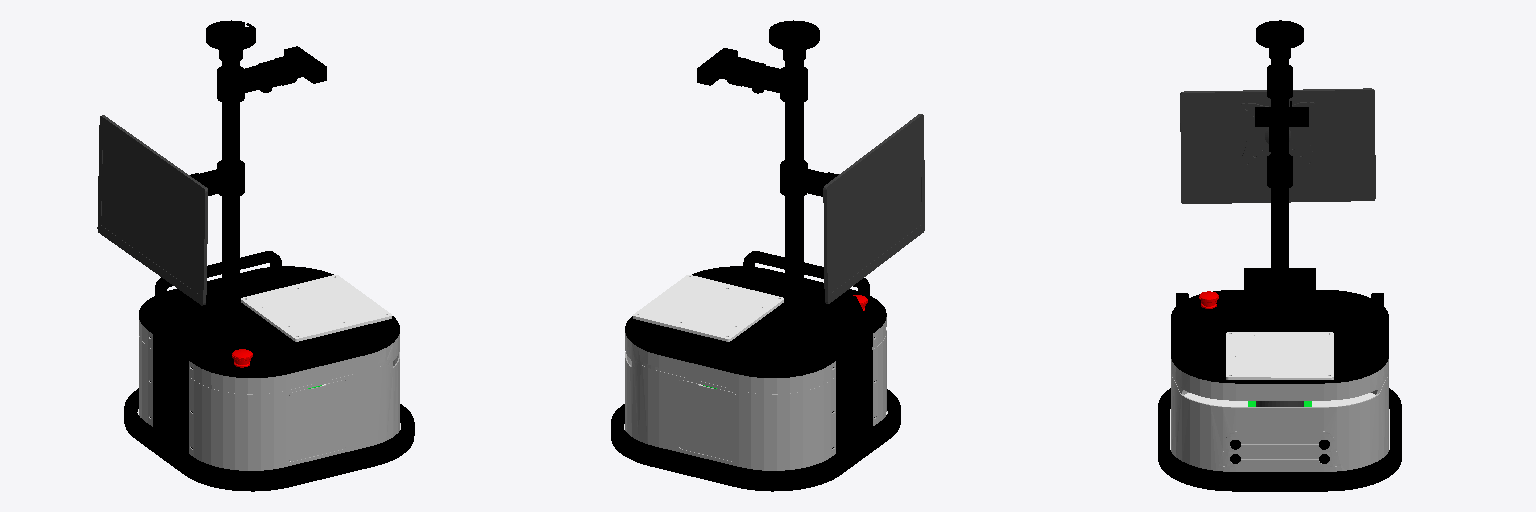
--- Facts derived from the render (not from the file) ---
3 views of the same robot in one strip: view 1: azimuth 30°, elevation 25°; view 2: azimuth 150°, elevation 25°; view 3: azimuth 270°, elevation 25° (orthographic).
Model castlex_description with 31 links and 30 joints (11 continuous, 19 fixed), rooted at base_link, posed every joint at zero.
Visible links, largest first — view 1: side_cover_link, top_link, display_link, column_link, Anti_collision_sensor_link, arm_link, 3d_camera_link, microphone_link; view 2: side_cover_link, top_link, display_link, column_link, Anti_collision_sensor_link, arm_link, 3d_camera_link, microphone_link; view 3: display_link, side_cover_link, top_link, column_link, Anti_collision_sensor_link, arm_link, 3d_camera_link, chassis_link, microphone_link.
Boxes of the visible links, left/top/right/bottom form: side_cover_link: left=139, top=320, right=399, bottom=470; top_link: left=139, top=251, right=399, bottom=452; display_link: left=97, top=115, right=207, bottom=305; column_link: left=190, top=20, right=297, bottom=341; Anti_collision_sensor_link: left=124, top=388, right=414, bottom=491; arm_link: left=241, top=275, right=391, bottom=341; 3d_camera_link: left=284, top=46, right=326, bottom=83; microphone_link: left=208, top=24, right=253, bottom=40; side_cover_link: left=625, top=317, right=886, bottom=470; top_link: left=625, top=251, right=886, bottom=452; display_link: left=823, top=114, right=924, bottom=303; column_link: left=726, top=20, right=838, bottom=341; Anti_collision_sensor_link: left=611, top=389, right=900, bottom=491; arm_link: left=633, top=275, right=783, bottom=341; 3d_camera_link: left=697, top=48, right=738, bottom=85; microphone_link: left=769, top=24, right=815, bottom=40; display_link: left=1180, top=88, right=1375, bottom=203; side_cover_link: left=1171, top=359, right=1388, bottom=471; top_link: left=1171, top=268, right=1388, bottom=383; column_link: left=1255, top=20, right=1304, bottom=327; Anti_collision_sensor_link: left=1158, top=388, right=1401, bottom=491; arm_link: left=1226, top=332, right=1333, bottom=379; 3d_camera_link: left=1255, top=101, right=1308, bottom=126; chassis_link: left=1170, top=393, right=1389, bottom=449; microphone_link: left=1258, top=24, right=1301, bottom=45.
Size in the robot's own frame: 0.4049 by 0.3843 by 0.7071 metres.
26 mesh visuals loaded from 30 distinct referenced files (26 binary STL); not drawn: 4 (reference not matched to a file when rendering).

URDF robot description (castlex_description):
<?xml version="1.0" encoding="utf-8"?>
<!-- This URDF was automatically created by SolidWorks to URDF Exporter! Originally created by Stephen Brawner ([email redacted]) 
     Commit Version: 1.5.0-0-g9aa0fdb  Build Version: 1.5.7004.21443
     For more information, please see http://wiki.ros.org/sw_urdf_exporter -->
<robot  name="castlex_description">

  <!-- base_link -->
  <link name="base_link">
    <inertial>
      <origin xyz="6.9267945770439E-06 -3.96574693306562E-06 0.00395606136220966"  rpy="0 0 3.14159265358979" />
      <mass value="0.720167465924811" />
      <inertia  ixx="0.00615545372950328" ixy="-4.87237789358096E-07" ixz="-2.97755475510978E-08"
                iyy="0.00612747058646997" iyz="4.18370923899482E-09"
                izz="0.0122752906926513" />
    </inertial>
  </link>

  <!-- chassis_link -->
  <link name="chassis_link">
    <inertial>
      <origin xyz="6.9267945770439E-06 -3.96574693306562E-06 0.00395606136220966" rpy="0 0 0" />
      <mass value="0.72016746592481" />
      <inertia  ixx="0.00615545372950328" ixy="-4.87237789358309E-07" ixz="2.97755475511005E-08"
                iyy="0.00612747058646997" iyz="-4.18370923861834E-09"
                izz="0.0122752906926513" />
    </inertial>
    <visual>
      <origin xyz="0 0 0" rpy="0 0 0" />
      <geometry>
        <mesh filename="package://castlex_description/meshes/chassis_link.STL" />
      </geometry>
      <material name="">
        <color  rgba="1 1 1 1" />
      </material>
    </visual>
    <collision>
      <origin xyz="0 0 0" rpy="0 0 0" />
      <geometry>
        <mesh filename="package://castlex_description/meshes/chassis_link.STL" />
      </geometry>
    </collision>
  </link>

  <!-- base_link_joint -->
  <joint  name="base_link_joint"  type="fixed">
    <origin xyz="0.0 0.0 0.0" rpy="0 0 0" />
    <parent link="base_link" />
    <child  link="chassis_link" />
    <axis xyz="0 0 0" />
    <safety_controller  k_velocity="0" />
  </joint>

  <!-- axle_link -->
  <link name="axle_link">
    <inertial>
      <origin xyz="-6.92679457704216E-06 0.00395606136220966 -3.96574693306562E-06" rpy="0 0 0" />
      <mass value="0.720167465924811" />
      <inertia  ixx="0.00615545372950328" ixy="-2.97755475510977E-08" ixz="4.87237789358242E-07"
                iyy="0.0122752906926513"  iyz="-4.18370923861933E-09"
                izz="0.00612747058646997" />
    </inertial>
    <visual>
      <origin xyz="0 0 0" rpy="0 0 0" />
      <geometry>
        <mesh filename="package://castlex_description/meshes/axle_link.STL" />
      </geometry>
      <material name="">
        <color  rgba="1 1 1 1" />
      </material>
    </visual>
    <collision>
      <origin xyz="0 0 0" rpy="0 0 0" />
      <geometry>
        <mesh filename="package://castlex_description/meshes/axle_link.STL" />
      </geometry>
    </collision>
  </link>

  <!-- axle_joint -->
  <joint  name="axle_joint" type="fixed">
    <origin xyz="0 0 0" rpy="1.5707963267949 0 3.14159265358979" />
    <parent link="chassis_link" />
    <child  link="axle_link" />
    <axis xyz="0 0 0" />
    <safety_controller  k_velocity="0" />
  </joint>

  <!-- car_a_whell_shaft_link -->
  <link name="car_a_whell_shaft_link">
    <inertial>
      <origin xyz="1.3855E-10 -0.022254 8.3157E-10" rpy="0 0 0" />
      <mass value="0.043953" />
      <inertia  ixx="7.9726E-06"  ixy="2.8686E-14"  ixz="-1.401E-15"
                iyy="1.3822E-05"  iyz="2.0711E-13"
                izz="7.9726E-06" />
    </inertial>
    <visual>
      <origin xyz="0 0 0" rpy="0 0 0" />
      <geometry>
        <mesh filename="package://castlex_description/meshes/car_a_whell_shaft_link.STL" />
      </geometry>
      <material name="">
        <color  rgba="1 1 1 1" />
      </material>
    </visual>
    <collision>
      <origin xyz="0 0 0" rpy="0 0 0" />
      <geometry>
        <mesh filename="package://castlex_description/meshes/car_a_whell_shaft_link.STL" />
      </geometry>
    </collision>
  </link>

  <!-- car_a_whell_shaft_joint -->
  <joint  name="car_a_whell_shaft_joint"  type="continuous">
    <origin xyz="-0.079983 0.023 0.13854" rpy="1.0472 0 1.5708" />
    <parent link="axle_link" />
    <child  link="car_a_whell_shaft_link" />
    <axis xyz="0 1 0" />
    <safety_controller  k_velocity="0" />
  </joint>

  <!-- car_a_whell_disc_link -->
  <link name="car_a_whell_disc_link">
    <inertial>
      <origin xyz="-7.6413E-13 0 0.01395" rpy="0 0 0" />
      <mass value="0.049359" />
      <inertia  ixx="2.6026E-05"  ixy="3.4384E-19"  ixz="1.0392E-19"
                iyy="2.6026E-05"  iyz="1.3941E-17"
                izz="5.1939E-05" />
    </inertial>
    <visual>
      <origin xyz="0 0 0" rpy="0 0 0" />
      <geometry>
        <mesh filename="package://castlex_description/meshes/car_a_whell_disc_link.STL" />
      </geometry>
      <material name="">
        <color  rgba="0.5 0.54 0.53 1" />
      </material>
    </visual>
    <collision>
      <origin xyz="0 0 0" rpy="0 0 0" />
      <geometry>
        <mesh filename="package://castlex_description/meshes/car_a_whell_disc_link.STL" />
      </geometry>
    </collision>
  </link>

  <!-- car_a_whell_disc_joint -->
  <joint  name="car_a_whell_disc_joint" type="fixed">
    <origin xyz="0 0.00123301270189213 0" rpy="1.5707963267949 -0.0218660615255049 0" />
    <parent link="car_a_whell_shaft_link" />
    <child  link="car_a_whell_disc_link" />
    <axis xyz="0 0 0" />
    <safety_controller  k_velocity="0" />
  </joint>

  <!-- car_a_whell_link -->
  <link name="car_a_whell_link">
    <inertial>
      <origin xyz="-0.026052 0.037502 -2.0596E-07"  rpy="0 0 0" />
      <mass value="0.072738" />
      <inertia  ixx="3.5683E-06"  ixy="1.7836E-07"  ixz="3.1353E-12"
                iyy="3.1941E-06"  iyz="1.1029E-12"
                izz="3.1227E-06" />
    </inertial>
    <visual>
      <origin xyz="0 0 0" rpy="0 0 0" />
      <geometry>
        <mesh filename="package://castlex_description/meshes/car_a_whell_link.STL" />
      </geometry>
      <material name="">
        <color  rgba="0 0 0 1" />
      </material>
    </visual>
    <collision>
      <origin xyz="0 0 0" rpy="0 0 0" />
      <geometry>
        <mesh filename="package://castlex_description/meshes/car_a_whell_link.STL" />
      </geometry>
    </collision>
  </link>

  <!-- car_a_whell_joint -->
  <joint  name="car_a_whell_joint"  type="fixed">
    <origin xyz="0.0385363128413261 0.0222489506297024 0.00369999999999965" rpy="-1.57079632679489 1.19004334631925 0.523598775952223" />
    <parent link="car_a_whell_disc_link" />
    <child  link="car_a_whell_link" />
    <axis xyz="0 0 0" />
    <safety_controller  k_velocity="0" />
  </joint>

  <!-- car_b_whell_shaft_link -->
  <link name="car_b_whell_shaft_link">
    <inertial>
      <origin xyz="-0.00043301 -0.036456 -0.00075"  rpy="0 0 0" />
      <mass value="0.11582" />
      <inertia  ixx="4.9326E-05"  ixy="2.0221E-13"  ixz="3.5105E-15"
                iyy="1.5146E-05"  iyz="-4.7893E-14"
                izz="4.9326E-05" />
    </inertial>
    <visual>
      <origin xyz="0 0 0" rpy="0 0 0" />
      <geometry>
        <mesh filename="package://castlex_description/meshes/car_b_whell_shaft_link.STL" />
      </geometry>
      <material name="">
        <color  rgba="1 1 1 1" />
      </material>
    </visual>
    <collision>
      <origin xyz="0 0 0" rpy="0 0 0" />
      <geometry>
        <mesh filename="package://castlex_description/meshes/car_b_whell_shaft_link.STL" />
      </geometry>
    </collision>
  </link>

  <!-- car_b_whell_shaft_joint -->
  <joint  name="car_b_whell_shaft_joint"  type="continuous">
    <origin xyz="-0.080175 0.02375 -0.13973"  rpy="-1.5708 0.5236 0" />
    <parent link="axle_link" />
    <child  link="car_b_whell_shaft_link" />
    <axis xyz="0 1 0" />
    <safety_controller  k_velocity="0" />
  </joint>

  <!-- car_b_whell_disc_link -->
  <link name="car_b_whell_disc_link">
    <inertial>
      <origin xyz="-3.8122E-13 6.6022E-13 -0.00655" rpy="0 0 0" />
      <mass value="0.049359" />
      <inertia  ixx="2.6026E-05"  ixy="5.5596E-16"  ixz="1.2099E-17"
                iyy="2.6026E-05"  iyz="6.9914E-18"
                izz="5.1939E-05" />
    </inertial>
    <visual>
      <origin xyz="0 0 0" rpy="0 0 0" />
      <geometry>
        <mesh filename="package://castlex_description/meshes/car_b_whell_disc_link.STL" />
      </geometry>
      <material name="">
        <color  rgba="0.5 0.54 0.529 1" />
      </material>
    </visual>
    <collision>
      <origin xyz="0 0 0" rpy="0 0 0" />
      <geometry>
        <mesh filename="package://castlex_description/meshes/car_b_whell_disc_link.STL" />
      </geometry>
    </collision>
  </link>

  <!-- car_b_whell_disc_joint -->
  <joint  name="car_b_whell_disc_joint" type="fixed">
    <origin xyz="-0.000433012701892471 -0.0203999999999999 -0.000749999999999876" rpy="-1.5707963267949 -0.50173271407281 -3.14159265358979" />
    <parent link="car_b_whell_shaft_link" />
    <child  link="car_b_whell_disc_link" />
    <axis xyz="0 0 0" />
    <safety_controller  k_velocity="0" />
  </joint>

  <!-- car_b_whell_link -->
  <link name="car_b_whell_link">
    <inertial>
      <origin xyz="-0.026052 0.037502 1.445E-07"  rpy="0 0 0" />
      <mass value="0.072738" />
      <inertia  ixx="3.5683E-06"  ixy="1.7838E-07"  ixz="-2.0619E-11"
                iyy="3.1941E-06"  iyz="-1.7069E-11"
                izz="3.1227E-06" />
    </inertial>
    <visual>
      <origin xyz="0 0 0" rpy="0 0 0" />
      <geometry>
        <mesh filename="package://castlex_description/meshes/car_b_whell_link.STL" />
      </geometry>
      <material name="">
        <color  rgba="0 0 0 1" />
      </material>
    </visual>
    <collision>
      <origin xyz="0 0 0" rpy="0 0 0" />
      <geometry>
        <mesh filename="package://castlex_description/meshes/car_b_whell_link.STL" />
      </geometry>
    </collision>
  </link>

  <!-- car_b_whell_joint -->
  <joint  name="car_b_whell_joint"  type="fixed">
    <origin xyz="-0.0152191785170915 -0.0418143494125209 -0.0168000000000001" rpy="-1.5707963267949 1.19004334631925 -1.91986217683983" />
    <parent link="car_b_whell_disc_link" />
    <child  link="car_b_whell_link" />
    <axis xyz="0 0 0" />
    <safety_controller  k_velocity="0" />
  </joint>

  <!-- car_c_whell_shaft_link -->
  <link name="car_c_whell_shaft_link">
    <inertial>
      <origin xyz="3.6808E-11 -0.022253 -1.1285E-11"  rpy="0 0 0" />
      <mass value="0.043954" />
      <inertia  ixx="7.9726E-06"  ixy="1.0692E-14"  ixz="-1.6854E-17"
                iyy="1.3822E-05"  iyz="-2.379E-15"
                izz="7.9726E-06" />
    </inertial>
    <visual>
      <origin xyz="0 0 0" rpy="0 0 0" />
      <geometry>
        <mesh filename="package://castlex_description/meshes/car_c_whell_shaft_link.STL" />
      </geometry>
      <material name="">
        <color  rgba="1 1 1 1" />
      </material>
    </visual>
    <collision>
      <origin xyz="0 0 0" rpy="0 0 0" />
      <geometry>
        <mesh filename="package://castlex_description/meshes/car_c_whell_shaft_link.STL" />
      </geometry>
    </collision>
  </link>

  <!-- car_c_whell_shaft_joint -->
  <joint  name="car_c_whell_shaft_joint"  type="continuous">
    <origin xyz="0.15997 0.023 0" rpy="0 0 -1.5708" />
    <parent link="axle_link" />
    <child  link="car_c_whell_shaft_link" />
    <axis xyz="0 1 0" />
    <safety_controller  k_velocity="0" />
  </joint>

  <!-- car_c_whell_disc_link -->
  <link name="car_c_whell_disc_link">
    <inertial>
      <origin xyz="-7.6316E-13 5.5511E-17 0.01395"  rpy="0 0 0" />
      <mass value="0.049359" />
      <inertia  ixx="2.6026E-05"  ixy="3.3992E-19"  ixz="4.4017E-21"
                iyy="2.6026E-05"  iyz="1.1988E-17"
                izz="5.1939E-05" />
    </inertial>
    <visual>
      <origin xyz="0 0 0" rpy="0 0 0" />
      <geometry>
        <mesh filename="package://castlex_description/meshes/car_c_whell_disc_link.STL" />
      </geometry>
      <material name="">
        <color  rgba="0.5 0.54 0.529 1" />
      </material>
    </visual>
    <collision>
      <origin xyz="0 0 0" rpy="0 0 0" />
      <geometry>
        <mesh filename="package://castlex_description/meshes/car_c_whell_disc_link.STL" />
      </geometry>
    </collision>
  </link>

  <!-- car_c_whell_disc_joint -->
  <joint  name="car_c_whell_disc_joint" type="fixed">
    <origin xyz="0 0.00123301270189233 0" rpy="-1.5707963267949 0.0218660615255049 -3.14159265358979" />
    <parent link="car_c_whell_shaft_link" />
    <child  link="car_c_whell_disc_link" />
    <axis xyz="0 0 0" />
    <safety_controller  k_velocity="0" />
  </joint>

  <!-- car_c_whell_link -->
  <link name="car_c_whell_link">
    <inertial>
      <origin xyz="-0.026052 0.037502 -2.8755E-11"  rpy="0 0 0" />
      <mass value="0.072739" />
      <inertia  ixx="3.5684E-06"  ixy="1.7839E-07"  ixz="-2.5183E-14"
                iyy="3.1942E-06"  iyz="-1.0492E-14"
                izz="3.1228E-06" />
    </inertial>
    <visual>
      <origin xyz="0 0 0" rpy="0 0 0" />
      <geometry>
        <mesh filename="package://castlex_description/meshes/car_c_whell_link.STL" />
      </geometry>
      <material name="">
        <color  rgba="0 0 0 1" />
      </material>
    </visual>
    <collision>
      <origin xyz="0 0 0" rpy="0 0 0" />
      <geometry>
        <mesh filename="package://castlex_description/meshes/car_c_whell_link.STL" />
      </geometry>
    </collision>
  </link>

  <!-- car_c_whell_joint -->
  <joint  name="car_c_whell_joint"  type="fixed">
    <origin xyz="0 -0.044497901203624 0.00369999999999981"  rpy="-1.5707963267949 1.19004334631925 -1.57079632644098" />
    <parent link="car_c_whell_disc_link" />
    <child  link="car_c_whell_link" />
    <axis xyz="0 0 0" />
    <safety_controller  k_velocity="0" />
  </joint>

  <!-- imu_link -->
  <link name="imu_link">
    <inertial>
      <origin xyz="-0.049446 -0.019177 0.0062665" rpy="0 0 0" />
      <mass value="0.18529" />
      <inertia  ixx="0.00015805"  ixy="-3.4913E-06" ixz="2.0531E-06"
                iyy="0.0003484"
                iyz="1.0145E-06"
                izz="0.00050079" />
    </inertial>
    <visual>
      <origin xyz="0 0 0" rpy="0 0 0" />
      <geometry>
        <mesh filename="package://castlex_description/meshes/imu_link.STL" />
      </geometry>
      <material name="">
        <color  rgba="0.027451 1 0.21961 1" />
      </material>
    </visual>
    <collision>
      <origin xyz="0 0 0" rpy="0 0 0" />
      <geometry>
        <mesh filename="package://castlex_description/meshes/imu_link.STL" />
      </geometry>
    </collision>
  </link>

  <!-- imu_joint -->
  <joint  name="imu_joint"  type="fixed">
    <origin xyz="-0.0593784805986412 0.0187236169610466 0.07" rpy="3.14159265358979 0 3.14159265358979" />
    <parent link="chassis_link" />
    <child  link="imu_link" />
    <axis xyz="0 0 0" />
    <safety_controller  k_velocity="0" />
  </joint>

  <!-- side_cover_link -->
  <link name="side_cover_link">
    <inertial>
      <origin xyz="-0.085611 -0.17171 0.080349" rpy="0 0 0" />
      <mass value="0.34391" />
      <inertia  ixx="0.0058573" ixy="5.3047E-07"  ixz="0.00014398"
                iyy="0.0052489" iyz="1.6578E-05"
                izz="0.009758" />
    </inertial>
    <visual>
      <origin xyz="0 0 0" rpy="0 0 0" />
      <geometry>
        <mesh filename="package://castlex_description/meshes/side_cover_link.STL" />
      </geometry>
      <material name="">
        <color  rgba="0.75294 0.75294 0.75294 1" />
      </material>
    </visual>
    <collision>
      <origin xyz="0 0 0" rpy="0 0 0" />
      <geometry>
        <mesh filename="package://castlex_description/meshes/side_cover_link.STL" />
      </geometry>
    </collision>
  </link>

  <!-- side_cover_joint -->
  <joint  name="side_cover_joint" type="fixed">
    <origin xyz="-0.0699999999999999 -0.172 0.005"  rpy="0.00367645402410964 0 3.14159265358974" />
    <parent link="chassis_link" />
    <child  link="side_cover_link" />
    <axis xyz="0 0 0" />
    <safety_controller  k_velocity="0" />
  </joint>

  <!-- cover_link -->
  <link name="cover_link">
    <inertial>
      <origin xyz="-6.9268E-06 0.0039561 -3.9657E-06" rpy="0 0 0" />
      <mass value="0.72017" />
      <inertia  ixx="0.0061555" ixy="-2.9776E-08" ixz="4.8724E-07"
                iyy="0.012275"  iyz="-4.1837E-09"
                izz="0.0061275" />
    </inertial>
    <visual>
      <origin xyz="0 0 0" rpy="0 0 0" />
      <geometry>
        <mesh filename="package://castlex_description/meshes/cover_link.STL" />
      </geometry>
      <material name="">
        <color  rgba="1 1 1 1" />
      </material>
    </visual>
    <collision>
      <origin xyz="0 0 0" rpy="0 0 0" />
      <geometry>
        <mesh filename="package://castlex_description/meshes/cover_link.STL" />
      </geometry>
    </collision>
  </link>

  <!-- cover_link_joint -->
  <joint  name="cover_link_joint" type="fixed">
    <origin xyz="0 0 0" rpy="1.5707963267949 0 3.14159265358979" />
    <parent link="chassis_link" />
    <child  link="cover_link" />
    <axis xyz="0 0 0" />
    <safety_controller  k_velocity="0" />
  </joint>

  <!-- top_link -->
  <link name="top_link">
    <inertial>
      <origin xyz="0.016184 0.0040409 0.00038438" rpy="0 0 0" />
      <mass value="1.0783" />
      <inertia  ixx="0.0080149" ixy="0.00010216"  ixz="-4.1524E-05"
                iyy="0.014398"  iyz="6.0692E-07"
                izz="0.0072524" />
    </inertial>
    <visual>
      <origin xyz="0 0 0" rpy="0 0 0" />
      <geometry>
        <mesh filename="package://castlex_description/meshes/top_link.STL" />
      </geometry>
      <material name="">
        <color  rgba="0 0 0 1" />
      </material>
    </visual>
    <collision>
      <origin xyz="0 0 0" rpy="0 0 0" />
      <geometry>
        <mesh filename="package://castlex_description/meshes/top_link.STL" />
      </geometry>
    </collision>
  </link>

  <!-- top_joint -->
  <joint  name="top_joint"  type="fixed">
    <origin xyz="0 0 0.163" rpy="1.5707963267949 0 3.14159265358979" />
    <parent link="chassis_link" />
    <child  link="top_link" />
    <axis xyz="0 0 0" />
    <safety_controller  k_velocity="0" />
  </joint>

  <!-- stop_link -->
  <link name="stop_link">
    <inertial>
      <origin xyz="5.2424E-09 0.011181 -9.8443E-08" rpy="0 0 0" />
      <mass value="0.01716" />
      <inertia  ixx="2.821E-06" ixy="-1.3501E-11" ixz="8.4481E-12"
                iyy="1.3428E-06"  iyz="9.3751E-12"
                izz="2.8214E-06" />
    </inertial>
    <visual>
      <origin xyz="0 0 0" rpy="0 0 0" />
      <geometry>
        <mesh filename="package://castlex_description/meshes/stop_link.STL" />
      </geometry>
      <material name="">
        <color  rgba="1 0 0 1" />
      </material>
    </visual>
    <collision>
      <origin xyz="0 0 0" rpy="0 0 0" />
      <geometry>
        <mesh filename="package://castlex_description/meshes/stop_link.STL" />
      </geometry>
    </collision>
  </link>

  <!-- stop_joint -->
  <joint  name="stop_joint" type="continuous">
    <origin xyz="0.112 0 -0.112"  rpy="0 0 0" />
    <parent link="top_link" />
    <child  link="stop_link" />
    <axis xyz="0 1 0" />
    <safety_controller  k_velocity="0" />
  </joint>

  <!-- arm_link -->
  <link name="arm_link">
    <inertial>
      <origin xyz="9.869E-05 0.0025014 5.5511E-17"  rpy="0 0 0" />
      <mass value="0.14362" />
      <inertia  ixx="0.00034412"  ixy="6.1399E-09"  ixz="-4.3666E-20"
                iyy="0.00068799"  iyz="-2.0973E-23"
                izz="0.00034447" />
    </inertial>
    <visual>
      <origin xyz="0 0 0" rpy="1.57 0 0" />
      <geometry>
        <mesh filename="package://castlex_description/meshes/arm_link.STL" />
      </geometry>
      <material name="">
        <color  rgba="1 1 1 1" />
      </material>
    </visual>
    <collision>
      <origin xyz="0 0 0" rpy="0 0 0" />
      <geometry>
        <mesh filename="package://castlex_description/meshes/arm_link.STL" />
      </geometry>
    </collision>
  </link>

  <!-- arm_joint -->
  <joint  name="arm_joint"  type="fixed">
    <origin xyz="-0.0819999999999999 0.00800000000000001 0" rpy="1.57 0 3.14" />
    <parent link="top_link" />
    <child  link="arm_link" />
    <axis xyz="0 0 0" />
    <safety_controller  k_velocity="0" />
  </joint>

  <!-- column_link -->
  <link name="column_link">
    <inertial>
      <origin xyz="-0.00061249 0.3124 7.8908E-05" rpy="0 0 0" />
      <mass value="0.33717" />
      <inertia  ixx="0.0020413" ixy="-3.5809E-07" ixz="1.5598E-06"
                iyy="0.00021152"  iyz="-4.3224E-08"
                izz="0.0021632" />
    </inertial>
    <visual>
      <origin xyz="0 0 0" rpy="0 0 0" />
      <geometry>
        <mesh filename="package://castlex_description/meshes/column_link.STL" />
      </geometry>
      <material name="">
        <color  rgba="0 0 0 1" />
      </material>
    </visual>
    <collision>
      <origin xyz="0 0 0" rpy="0 0 0" />
      <geometry>
        <mesh filename="package://castlex_description/meshes/column_link.STL" />
      </geometry>
    </collision>
  </link>

  <!-- column_joint -->
  <joint  name="column_joint" type="continuous">
    <origin xyz="0.067 0.00800000000000001 0" rpy="3.14159265358979 -0.00834710068324721 3.14159265358979" />
    <parent link="top_link" />
    <child  link="column_link" />
    <axis xyz="0 1 0" />
    <safety_controller  k_velocity="0" />
  </joint>

  <!-- display_link -->
  <link name="display_link">
    <inertial>
      <origin xyz="-0.13889 0.098043 -0.00087847" rpy="0 0 0" />
      <mass value="0.33332" />
      <inertia  ixx="0.0034566" ixy="-1.6704E-07" ixz="2.0007E-18"
                iyy="0.0024454" iyz="3.0146E-18"
                izz="0.0010125" />
    </inertial>
    <visual>
      <origin xyz="0 0 0" rpy="0 0 0" />
      <geometry>
        <mesh filename="package://castlex_description/meshes/display_link.STL" />
      </geometry>
      <material name="">
        <color  rgba="0.29804 0.29804 0.29804 1" />
      </material>
    </visual>
    <collision>
      <origin xyz="0 0 0" rpy="0 0 0" />
      <geometry>
        <mesh filename="package://castlex_description/meshes/display_link.STL" />
      </geometry>
    </collision>
  </link>

  <!-- diasply_joint -->
  <joint  name="diasply_joint"  type="continuous">
    <origin xyz="0 0.135126352666876 0" rpy="0.00721623118507111 0.0153880227330161 -0.0161355531628842" />
    <parent link="column_link" />
    <child  link="display_link" />
    <axis xyz="0.016132942748855 -0.999841999707743 0.007463496411441" />
    <safety_controller  k_velocity="0" />
  </joint>

  <!-- 3d_camera_link -->
  <link name="3d_camera_link">
    <inertial>
      <origin xyz="0.00061445 -0.12634 0.012091"  rpy="0 0 0" />
      <mass value="0.02092" />
      <inertia  ixx="2.6724E-06"  ixy="-8.0538E-09" ixz="1.8982E-09"
                iyy="1.4173E-05"  iyz="-1.7035E-08"
                izz="1.402E-05" />
    </inertial>
    <visual>
      <origin xyz="0 0 0" rpy="0 0 0" />
      <geometry>
        <mesh filename="package://castlex_description/meshes/3d_camera_link.STL" />
      </geometry>
      <material name="">
        <color  rgba="0 0 0 1" />
      </material>
    </visual>
    <collision>
      <origin xyz="0 0 0" rpy="0 0 0" />
      <geometry>
        <mesh filename="package://castlex_description/meshes/3d_camera_link.STL" />
      </geometry>
    </collision>
  </link>

  <!-- 3d_camera_joint -->
  <joint  name="3d_camera_joint"  type="continuous">
    <origin xyz="0 0.398403338922591 0" rpy="1.57079632679485 1.5590546713036 -3.14159265358979" />
    <parent link="column_link" />
    <child  link="3d_camera_link" />
    <axis xyz="0 0 1" />
    <safety_controller  k_velocity="0" />
  </joint>

  <!-- microphone_link -->
  <link name="microphone_link">
    <inertial>
      <origin xyz="-1.1043E-09 0.0057654 8.0948E-05"  rpy="0 0 0" />
      <mass value="0.036028" />
      <inertia  ixx="9.2613E-06"  ixy="4.9836E-14"  ixz="9.1797E-13"
                iyy="1.7511E-05"  iyz="6.4086E-09"
                izz="9.154E-06" />
    </inertial>
    <visual>
      <origin xyz="0 0 0" rpy="0 0 0" />
      <geometry>
        <mesh filename="package://castlex_description/meshes/microphone_link.STL" />
      </geometry>
      <material name="">
        <color  rgba="0 0 0 1" />
      </material>
    </visual>
    <collision>
      <origin xyz="0 0 0" rpy="0 0 0" />
      <geometry>
        <mesh filename="package://castlex_description/meshes/microphone_link.STL" />
      </geometry>
    </collision>
  </link>

  <!-- microphone_joint -->
  <joint  name="microphone_joint" type="continuous">
    <origin xyz="0 0.49022 0" rpy="3.14159265358979 1.42594897330677 3.14159265358979" />
    <parent link="column_link" />
    <child  link="microphone_link" />
    <axis xyz="0 1 0" />
    <safety_controller  k_velocity="0" />
  </joint>

  <!-- ultrasonic_link -->
  <link name="ultrasonic_link">
    <inertial>
      <origin xyz="-6.9268E-06 0.0039561 -3.9657E-06" rpy="0 0 0" />
      <mass value="0.72017" />
      <inertia  ixx="0.0061555" ixy="-2.9776E-08" ixz="4.8724E-07"
                iyy="0.012275"  iyz="-4.1837E-09"
                izz="0.0061275" />
    </inertial>
    <visual>
      <origin xyz="0 0 0" rpy="0 0 0" />
      <geometry>
        <mesh filename="package://castlex_description/meshes/ultrasonic_link.STL" />
      </geometry>
      <material name="">
        <color  rgba="1 1 1 1" />
      </material>
    </visual>
    <collision>
      <origin xyz="0 0 0" rpy="0 0 0" />
      <geometry>
        <mesh filename="package://castlex_description/meshes/ultrasonic_link.STL" />
      </geometry>
    </collision>
  </link>

  <!-- ultrasonic_joint -->
  <joint  name="ultrasonic_joint" type="fixed">
    <origin xyz="0 0 0" rpy="1.5707963267949 0 3.14159265358979" />
    <parent link="chassis_link" />
    <child  link="ultrasonic_link" />
    <axis xyz="0 0 0" />
    <safety_controller  k_velocity="0" />
  </joint>

  <!-- left_ultrasonic_link -->
  <link name="left_ultrasonic_link">
    <inertial>
      <origin xyz="-0.00082 -0.01438 -0.018993" rpy="0 0 0" />
      <mass value="0.0094089" />
      <inertia  ixx="1.9041E-06"  ixy="-9.0204E-11" ixz="5.1791E-10"
                iyy="3.333E-07" iyz="1.3271E-08"
                izz="1.968E-06" />
    </inertial>
    <visual>
      <origin xyz="0 0 0" rpy="0 0 0" />
      <geometry>
        <mesh filename="package://castlex_description/meshes/left_ultrasonic_link.STL" />
      </geometry>
      <material name="">
        <color  rgba="0 0 0 1" />
      </material>
    </visual>
    <collision>
      <origin xyz="0 0 0" rpy="0 0 0" />
      <geometry>
        <mesh filename="package://castlex_description/meshes/left_ultrasonic_link.STL" />
      </geometry>
    </collision>
  </link>

  <!-- left_ultrasonic_joint -->
  <joint  name="left_ultrasonic_joint"  type="continuous">
    <origin xyz="-0.144199999999999 0.0617599999999949 -0.069999999999998"  rpy="0 1.5707963267949 0" />
    <parent link="ultrasonic_link" />
    <child  link="left_ultrasonic_link" />
    <axis xyz="0 0 1" />
    <safety_controller  k_velocity="0" />
  </joint>

  <!-- right_ultrasonic_link -->
  <link name="right_ultrasonic_link">
    <inertial>
      <origin xyz="0.00086915 -0.014685 -0.018993"  rpy="0 0 0" />
      <mass value="0.0094089" />
      <inertia  ixx="1.9041E-06"  ixy="-9.0204E-11" ixz="-5.11E-10"
                iyy="3.333E-07" iyz="3.7212E-08"
                izz="1.968E-06" />
    </inertial>
    <visual>
      <origin xyz="0 0 0" rpy="0 0 0" />
      <geometry>
        <mesh filename="package://castlex_description/meshes/right_ultrasonic_link.STL" />
      </geometry>
      <material name="">
        <color  rgba="0 0 0 1" />
      </material>
    </visual>
    <collision>
      <origin xyz="0 0 0" rpy="0 0 0" />
      <geometry>
        <mesh filename="package://castlex_description/meshes/right_ultrasonic_link.STL" />
      </geometry>
    </collision>
  </link>

  <!-- right_ultrasonic_joint -->
  <joint  name="right_ultrasonic_joint" type="continuous">
    <origin xyz="-0.144699999999997 0.0617599999999916 0.0700000000000024"  rpy="0 1.5707963267949 0" />
    <parent link="ultrasonic_link" />
    <child  link="right_ultrasonic_link" />
    <axis xyz="0 0 1" />
    <safety_controller  k_velocity="0" />
  </joint>

  <!-- Anti_drop_sensor_link -->
  <link name="Anti_drop_sensor_link">
    <inertial>
      <origin xyz="-6.92679457704043E-06 0.00395606136220966 -3.96574693312113E-06" rpy="0 0 0" />
      <mass value="0.720167465924811" />
      <inertia  ixx="0.00615545372950328" ixy="-2.97755475510994E-08" ixz="4.87237789358066E-07"
                iyy="0.0122752906926513"  iyz="-4.18370923862105E-09"
                izz="0.00612747058646997" />
    </inertial>
    <visual>
      <origin xyz="0 0 0" rpy="0 0 0" />
      <geometry>
        <mesh filename="package://castlex_description/meshes/Anti_drop_sensor_link.STL" />
      </geometry>
      <material name="">
        <color  rgba="1 1 1 1" />
      </material>
    </visual>
    <collision>
      <origin xyz="0 0 0" rpy="0 0 0" />
      <geometry>
        <mesh filename="package://castlex_description/meshes/Anti_drop_sensor_link.STL" />
      </geometry>
    </collision>
  </link>

  <!-- Anti_drop_sensor_joint -->
  <joint  name="Anti_drop_sensor_joint" type="fixed">
    <origin xyz="0 0 0" rpy="1.5707963267949 0 3.14159265358979" />
    <parent link="chassis_link" />
    <child  link="Anti_drop_sensor_link" />
    <axis xyz="0 0 0" />
    <safety_controller  k_velocity="0" />
  </joint>

  <!-- Anti_drop_sensor_a_link -->
  <link name="Anti_drop_sensor_a_link">
    <inertial>
      <origin xyz="0.00085536 1.2022E-05 -0.0033404"  rpy="0 0 0" />
      <mass value="0.0021788" />
      <inertia  ixx="5.7895E-08"  ixy="-1.7826E-11" ixz="-2.1808E-09"
                iyy="9.0808E-08"  iyz="7.171E-11"
                izz="1.3121E-07" />
    </inertial>
    <visual>
      <origin xyz="0 0 0" rpy="0 0 0" />
      <geometry>
        <mesh filename="package://castlex_description/meshes/Anti_drop_sensor_a_link.STL" />
      </geometry>
      <material name="">
        <color  rgba="0.22353 0.22353 0.22353 1" />
      </material>
    </visual>
    <collision>
      <origin xyz="0 0 0" rpy="0 0 0" />
      <geometry>
        <mesh filename="package://castlex_description/meshes/Anti_drop_sensor_a_link.STL" />
      </geometry>
    </collision>
  </link>

  <!-- Anti_drop_sensor_a_joint -->
  <joint  name="Anti_drop_sensor_a_joint" type="fixed">
    <origin xyz="-0.159 0 0"  rpy="-1.5707963267949 0 0" />
    <parent link="Anti_drop_sensor_link" />
    <child  link="Anti_drop_sensor_a_link" />
    <axis xyz="0 0 0" />
    <safety_controller  k_velocity="0" />
  </joint>

  <!-- Anti_drop_sensor_b_link -->
  <link name="Anti_drop_sensor_b_link">
    <inertial>
      <origin xyz="0.00085536 1.2022E-05 -0.0033404"  rpy="0 0 0" />
      <mass value="0.0021788" />
      <inertia  ixx="5.7895E-08"  ixy="-1.7823E-11" ixz="-2.1808E-09"
                iyy="9.0808E-08"  iyz="7.171E-11"
                izz="1.3121E-07" />
    </inertial>
    <visual>
      <origin xyz="0 0 0" rpy="0 0 0" />
      <geometry>
        <mesh filename="package://castlex_description/meshes/Anti_drop_sensor_b_link.STL" />
      </geometry>
      <material name="">
        <color  rgba="0.22353 0.22353 0.22353 1" />
      </material>
    </visual>
    <collision>
      <origin xyz="0 0 0" rpy="0 0 0" />
      <geometry>
        <mesh filename="package://castlex_description/meshes/Anti_drop_sensor_b_link.STL" />
      </geometry>
    </collision>
  </link>

  <!-- Anti_drop_sensor_b_joint -->
  <joint  name="Anti_drop_sensor_b_joint" type="fixed">
    <origin xyz="0.0795000000000006 0 0.137698039201725"  rpy="1.5707963267949 1.0471975511966 3.14159265358979" />
    <parent link="Anti_drop_sensor_link" />
    <child  link="Anti_drop_sensor_b_link" />
    <axis xyz="0 0 0" />
    <safety_controller  k_velocity="0" />
  </joint>

  <!-- Anti_drop_sensor_c_link -->
  <link name="Anti_drop_sensor_c_link">
    <inertial>
      <origin xyz="0.00085536 1.2023E-05 -0.0033404"  rpy="0 0 0" />
      <mass value="0.0021788" />
      <inertia  ixx="5.7895E-08"  ixy="-1.7829E-11" ixz="-2.1808E-09" 
                iyy="9.0808E-08"  iyz="7.1711E-11"
                izz="1.3121E-07" />
    </inertial>
    <visual>
      <origin xyz="0 0 0" rpy="0 0 0" />
      <geometry>
        <mesh filename="package://castlex_description/meshes/Anti_drop_sensor_c_link.STL" />
      </geometry>
      <material name="">
        <color  rgba="0.22353 0.22353 0.22353 1" />
      </material>
    </visual>
    <collision>
      <origin xyz="0 0 0" rpy="0 0 0" />
      <geometry>
        <mesh filename="package://castlex_description/meshes/Anti_drop_sensor_c_link.STL" />
      </geometry>
    </collision>
  </link>

  <!-- Anti_drop_sensor_c_joint -->
  <joint  name="Anti_drop_sensor_c_joint" type="fixed">
    <origin xyz="0.0794999999999987 0 -0.137698039201726" rpy="1.5707963267949 -1.04719755119661 3.14159265358979" />
    <parent link="Anti_drop_sensor_link" />
    <child  link="Anti_drop_sensor_c_link" />
    <axis xyz="0 0 0" />
    <safety_controller  k_velocity="0" />
  </joint>

  <!-- Anti_collision_sensor_link -->
  <link name="Anti_collision_sensor_link">
    <inertial>
      <origin xyz="1.3704E-16 0.0025 -1.6653E-16" rpy="0 0 0" />
      <mass value="0.40718" />
      <inertia  ixx="0.0081304" ixy="-5.5454E-20" ixz="-5.2113E-18"
                iyy="0.016189"  iyz="-1.6544E-21"
                izz="0.0081304" />
    </inertial>
    <visual>
      <origin xyz="0 0 0" rpy="0 0 0" />
      <geometry>
        <mesh filename="package://castlex_description/meshes/Anti_collision_sensor_link.STL" />
      </geometry>
      <material name="">
        <color  rgba="0 0 0 1" />
      </material>
    </visual>
    <collision>
      <origin xyz="0 0 0" rpy="0 0 0" />
      <geometry>
        <mesh filename="package://castlex_description/meshes/Anti_collision_sensor_link.STL" />
      </geometry>
    </collision>
  </link>

  <!-- Anti_collision_sensor_joint -->
  <joint  name="Anti_collision_sensor_joint"  type="fixed">
    <origin xyz="0 0 0" rpy="1.5707963267949 0 3.14159265358979" />
    <parent link="chassis_link" />
    <child  link="Anti_collision_sensor_link" />
    <axis xyz="0 0 0" />
    <safety_controller  k_velocity="0" />
  </joint>

  <!-- lidar_link -->
  <link name="lidar_link">
    <inertial>
      <origin xyz="0 -5.5511E-17 0.0086962" rpy="0 0 0" />
      <mass value="0.16656" />
      <inertia  ixx="7.8909E-05"  ixy="0" ixz="-4.6889E-22"
                iyy="7.8909E-05"  iyz="0"
                izz="0.00011272" />
    </inertial>
    <visual>
      <origin xyz="0 0 0" rpy="0 0 0" />
      <geometry>
        <mesh filename="package://castlex_description/meshes/lidar_link.STL" />
      </geometry>
      <material name="">
        <color  rgba="0.3098 0.3098 0.3098 1" />
      </material>
    </visual>
    <collision>
      <origin xyz="0 0 0" rpy="0 0 0" />
      <geometry>
        <mesh filename="package://castlex_description/meshes/lidar_link.STL" />
      </geometry>
    </collision>
  </link>

  <!-- lidar_joint -->
  <joint  name="lidar_joint"  type="continuous">
    <origin xyz="0.13125 0 0.135" rpy="0 3.14159265358979 3.14159265358979" />
    <parent link="chassis_link" />
    <child  link="lidar_link" />
    <axis xyz="0 0 1" />
    <safety_controller  k_velocity="0" />
  </joint>
  
</robot>
